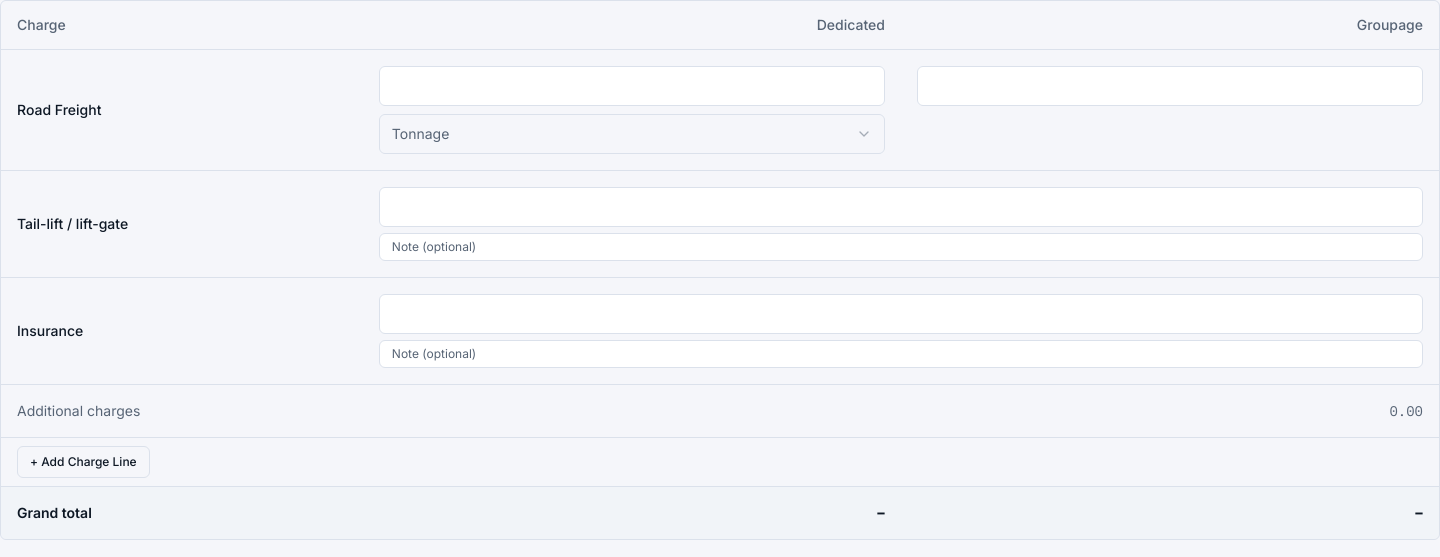
Test case: ChargeMatrix — Additional charges subtotal + Grand total per variant (design D1) › a variant's Grand total = ITS OWN freight rate + the Additional-charges subtotal + warehouse
This screenshot has width=1440, height=557.
Expected: the cell with test id "chargematrix-total-DEDICATED" reads "–", [876,504,885,522]
Expected: the cell with test id "chargematrix-total-GROUPAGE" reads "–", [1415,504,1423,522]
Type "1000" into the number field named "road freight — dedicated" at (632, 86), box [379,66,885,106]
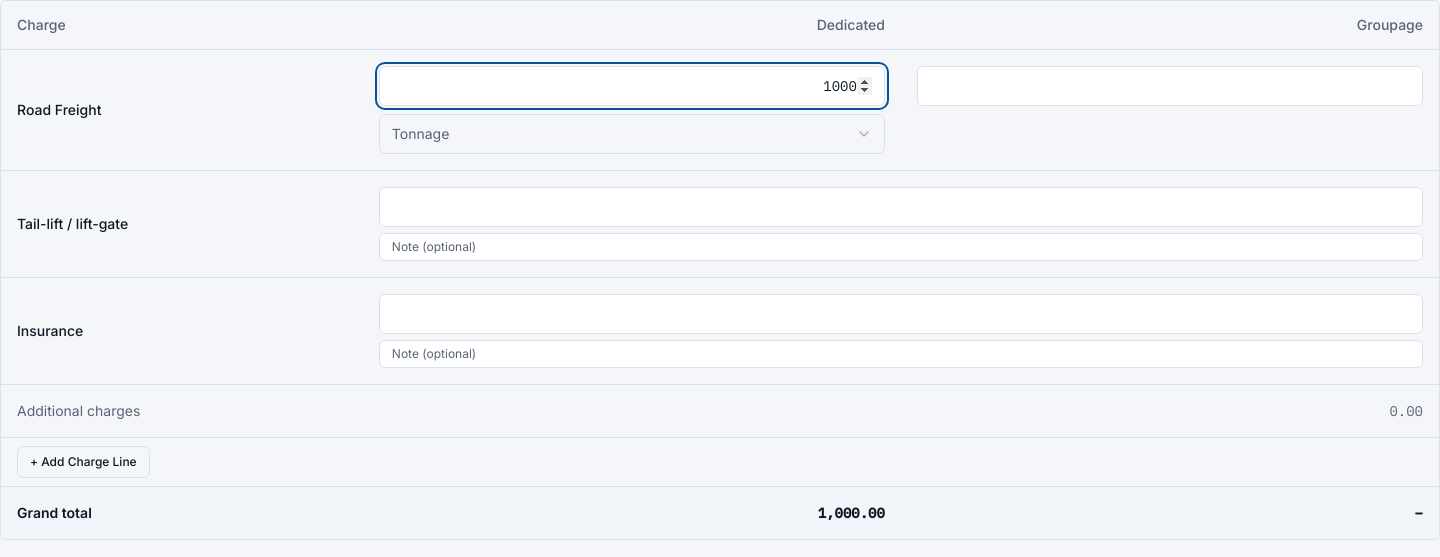
Type "50" into the number field named "insurance" at (901, 314), box [379,294,1423,334]
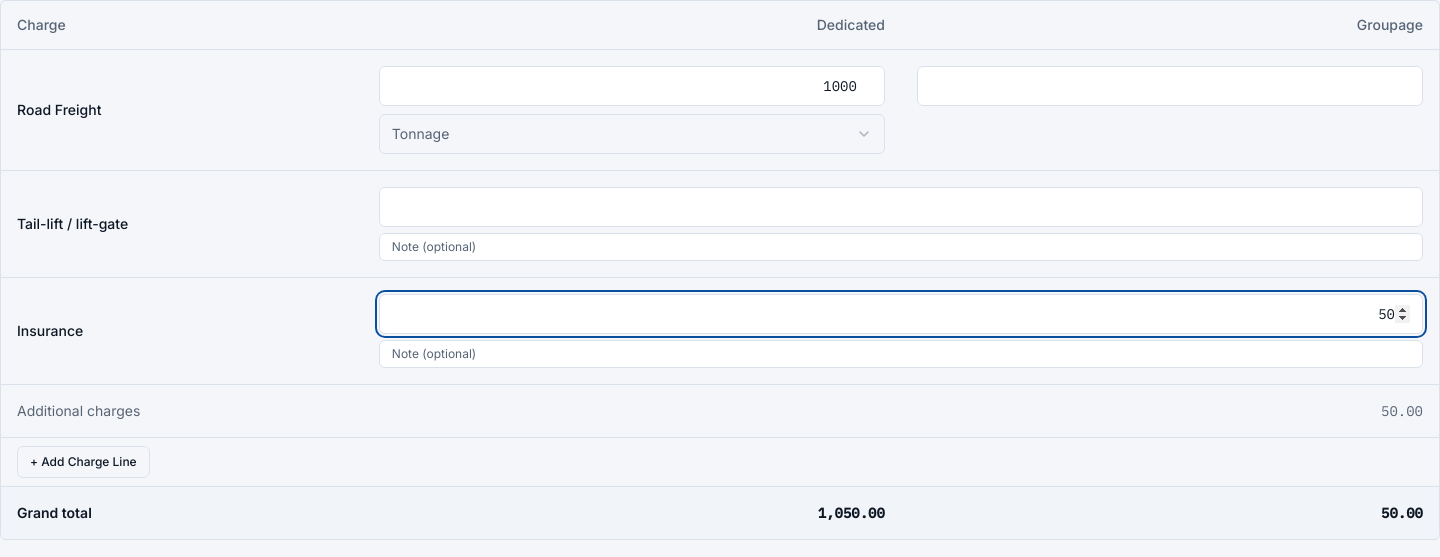
Expected: the cell with test id "chargematrix-total-DEDICATED" reads "1,050.00", [818,504,885,522]
Expected: the cell with test id "chargematrix-total-GROUPAGE" reads "50.00", [1381,504,1423,522]
Type "800" into the number field named "road freight — groupage" at (1170, 86), box [917,66,1423,106]
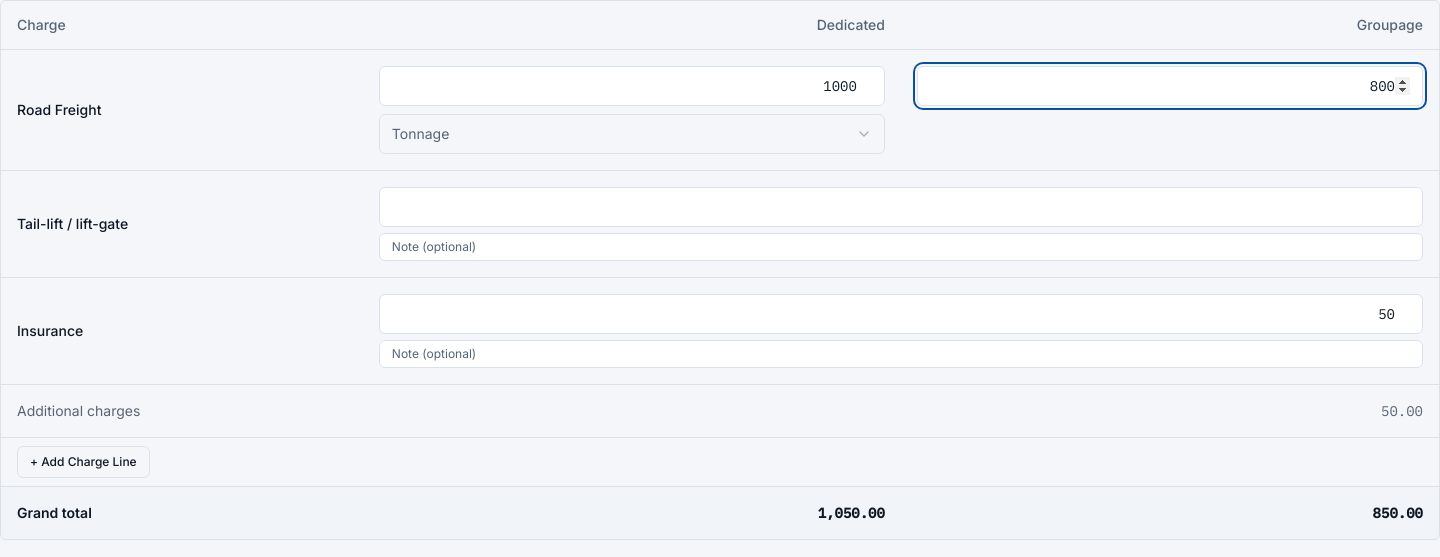
Expected: the cell with test id "chargematrix-total-GROUPAGE" reads "850.00", [1373,504,1423,522]
